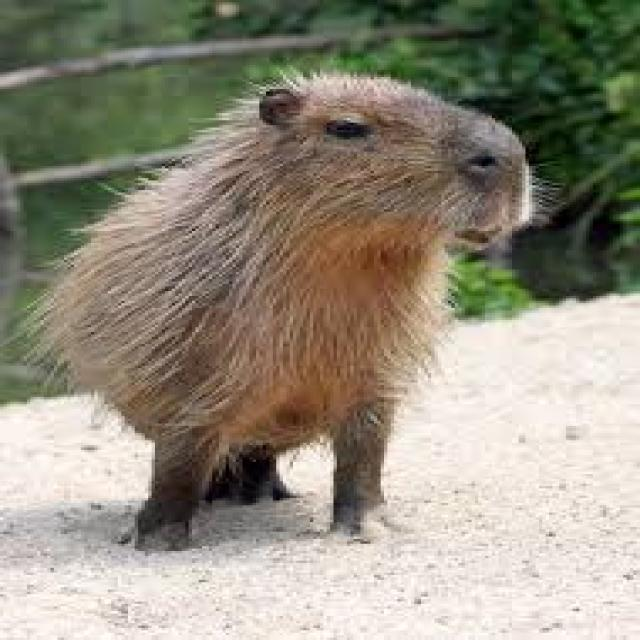capy: (60, 62, 541, 554)
